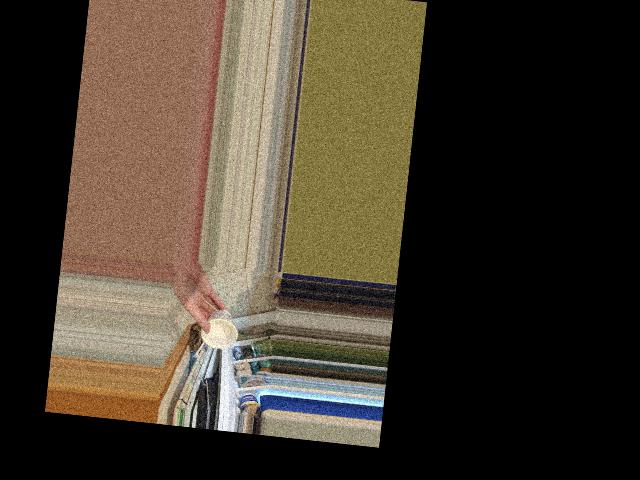cotage: (204, 306, 234, 354)
